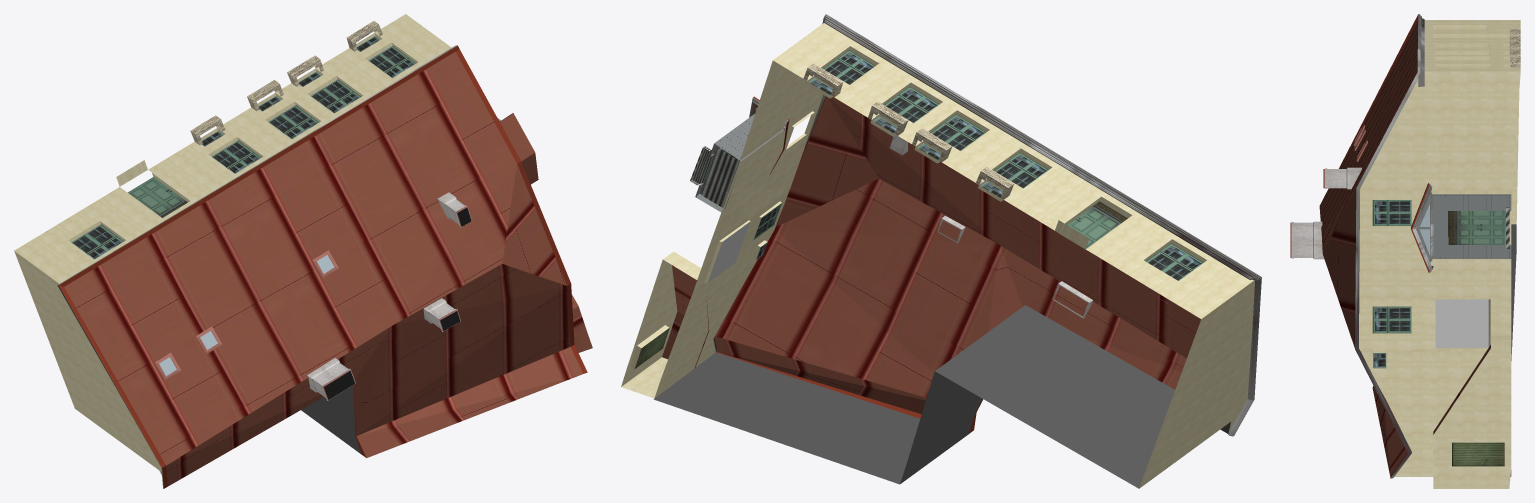
File: Kiriku-poik-4a.obj
3 renders of one model, left to right at view 1: azimuth 30°, elevation 25°; view 2: azimuth 150°, elevation 25°; view 3: azimuth 270°, elevation 25°, orthographic. The views are drawn at different scales.
Visible parts, largest first — view 1: Kiriku_p_ik_4a; view 2: Kiriku_p_ik_4a; view 3: Kiriku_p_ik_4a.
Part boxes in pixels (x1,y1,x2,y2): Kiriku_p_ik_4a: [14, 14, 592, 488]; Kiriku_p_ik_4a: [621, 14, 1261, 488]; Kiriku_p_ik_4a: [1290, 14, 1520, 488].
Bounding box in the file's own units: 25.05 × 16.3 × 9.02.
